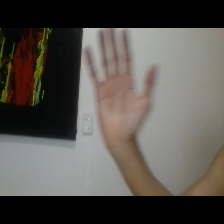left: (79, 25, 166, 144)
